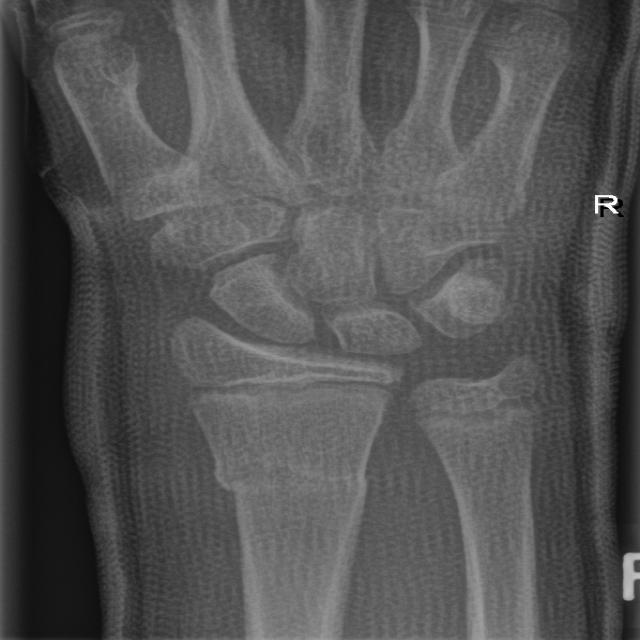radius fracture: (185, 436, 393, 545)
